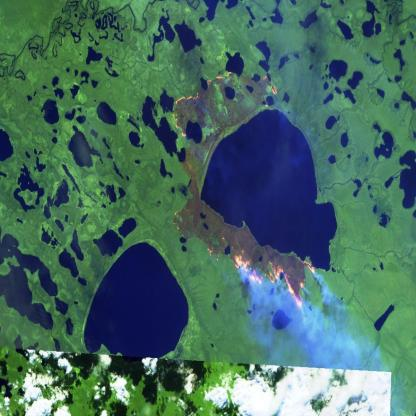fire: (172, 206, 324, 312), (162, 74, 291, 146)
